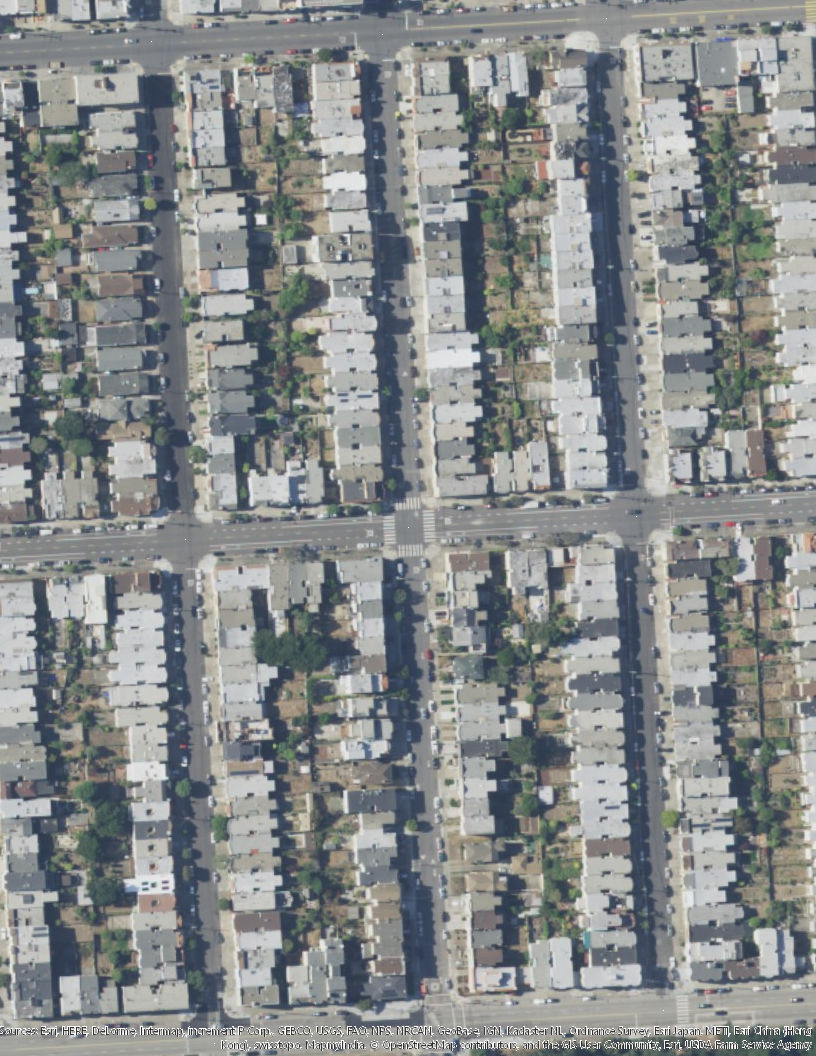zebracross: (388, 498, 424, 513), (382, 515, 398, 546), (422, 511, 437, 544), (675, 994, 690, 1027), (395, 543, 425, 558), (804, 1, 815, 27)
